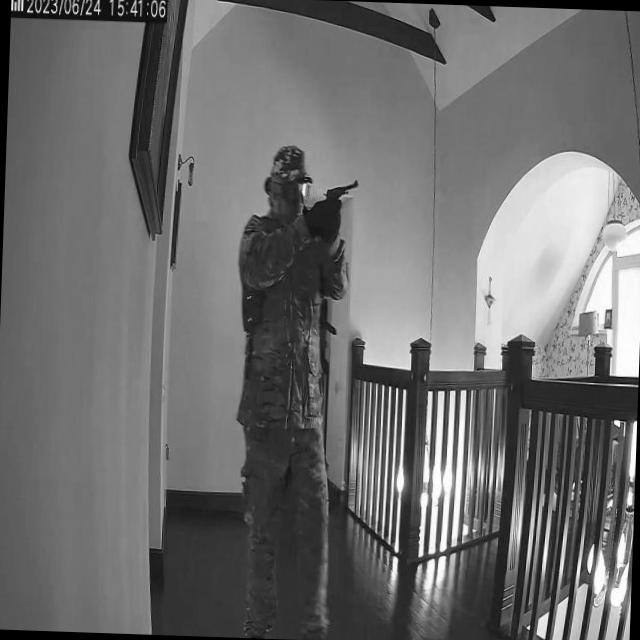gun: (322, 175, 359, 214)
person with a gun: (226, 141, 366, 640)
